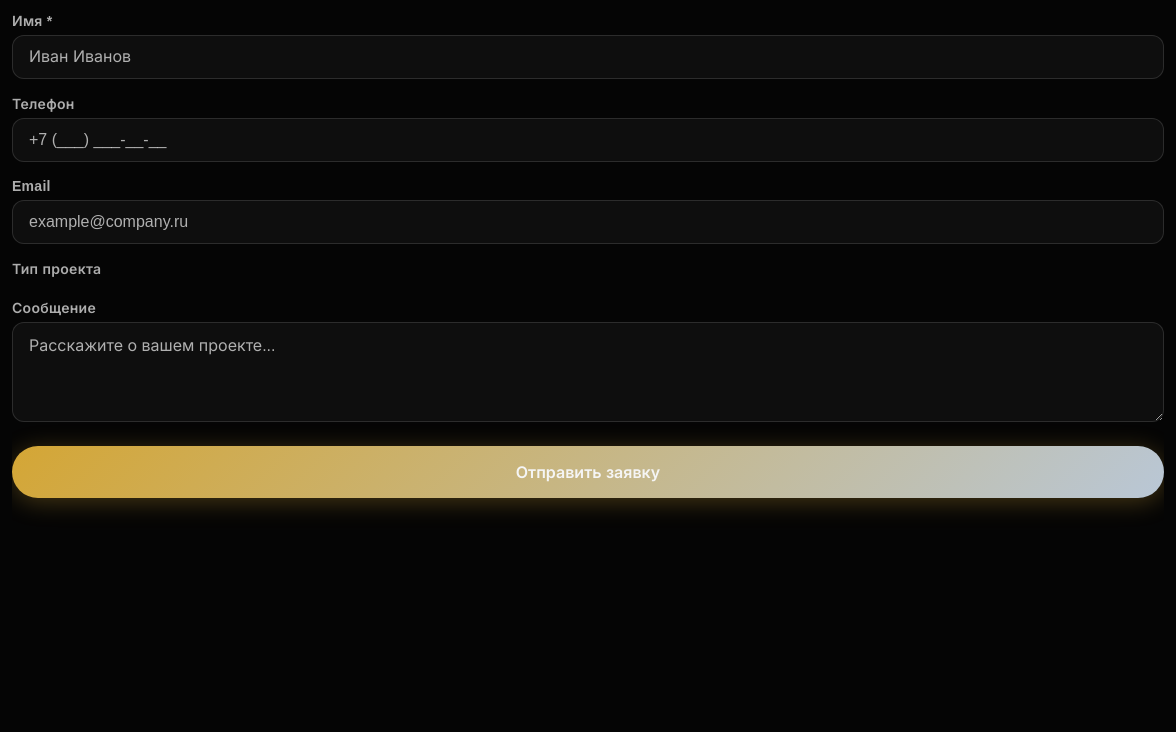
Test: does not count a conversion for an unconfirmed HTTP 200 response: {"ok":false}
Type "Проверка" into the field labelled "Имя *" at (588, 57), box [12, 35, 1164, 79]
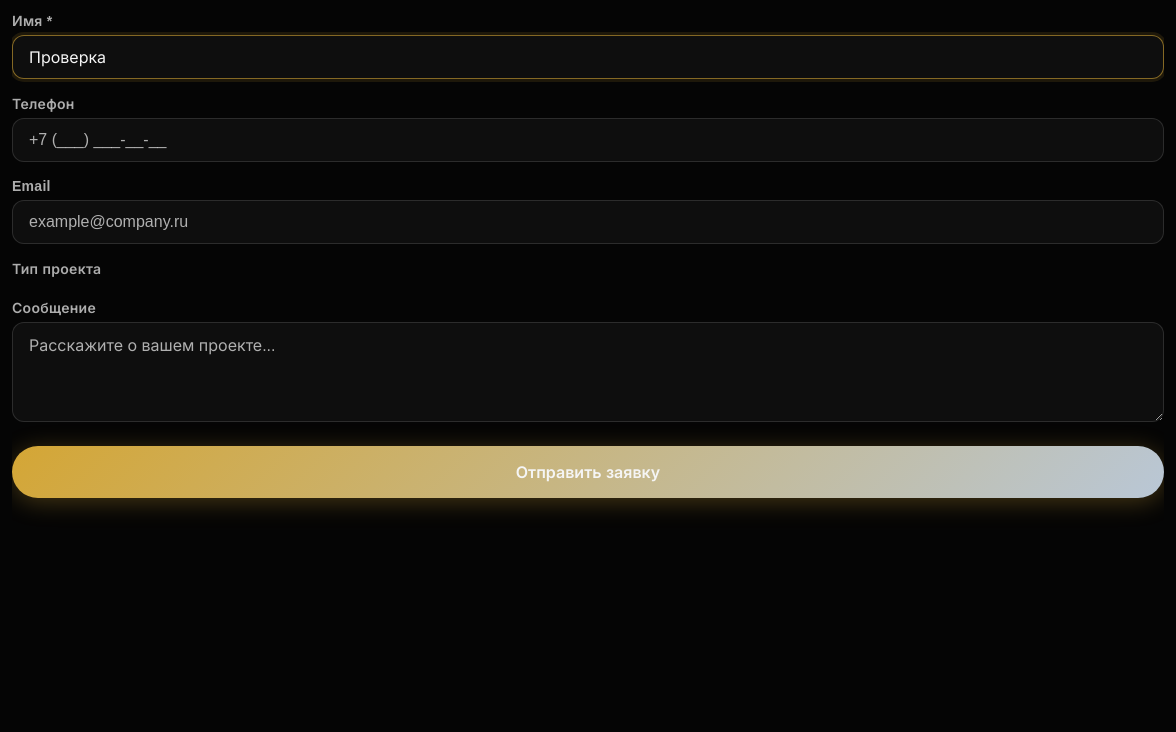
Type "audit@example.com" into the field labelled "Email" at (588, 222), box [12, 200, 1164, 244]
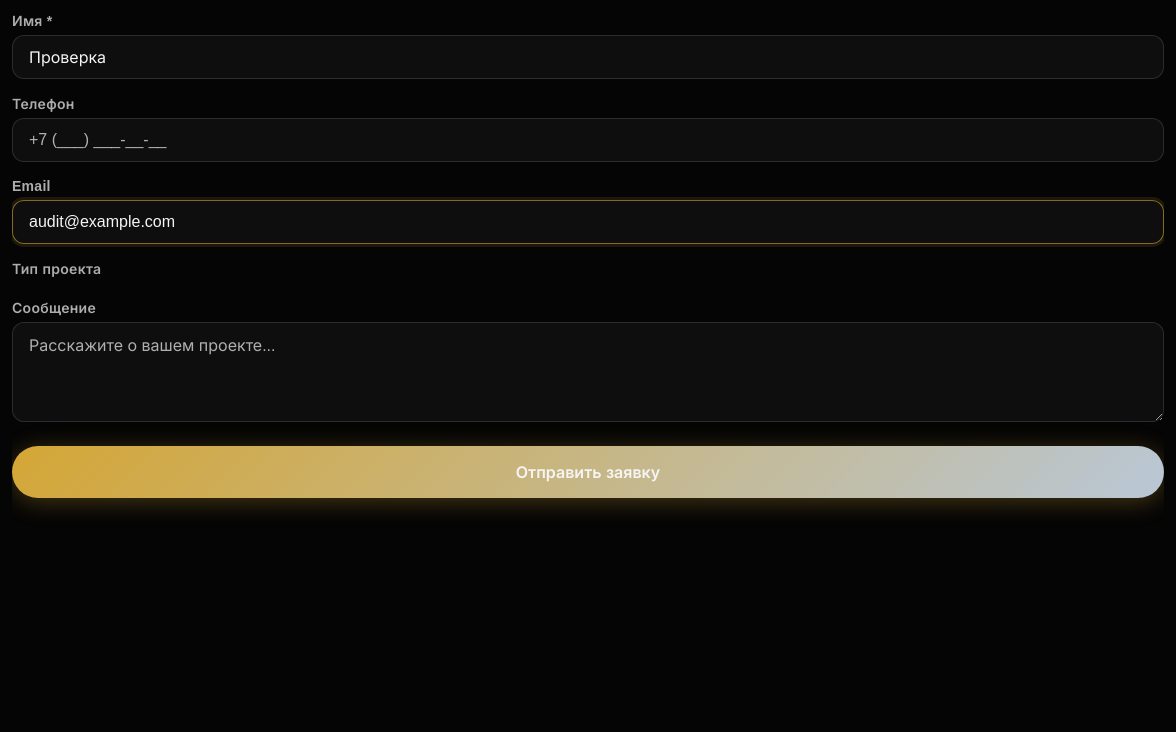
Click the button "Отправить заявку" at (588, 472), box [12, 446, 1164, 498]
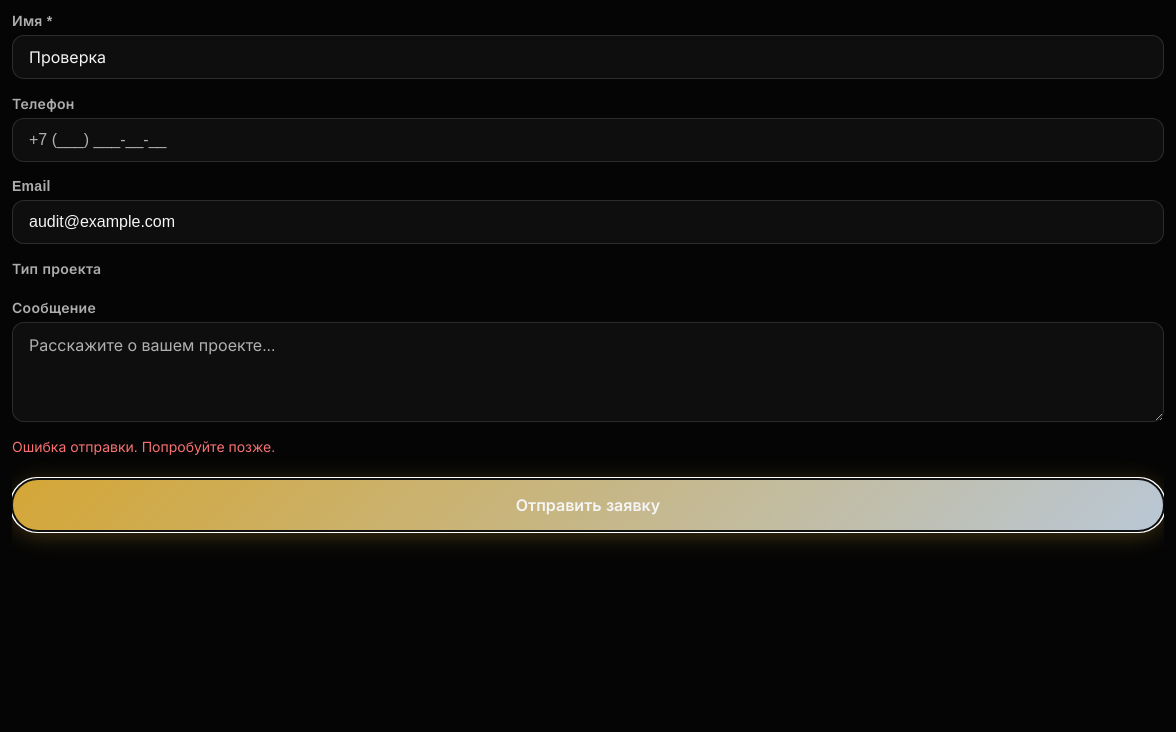
Expected: the message shows "Ошибка отправки", [12, 439, 275, 455]
